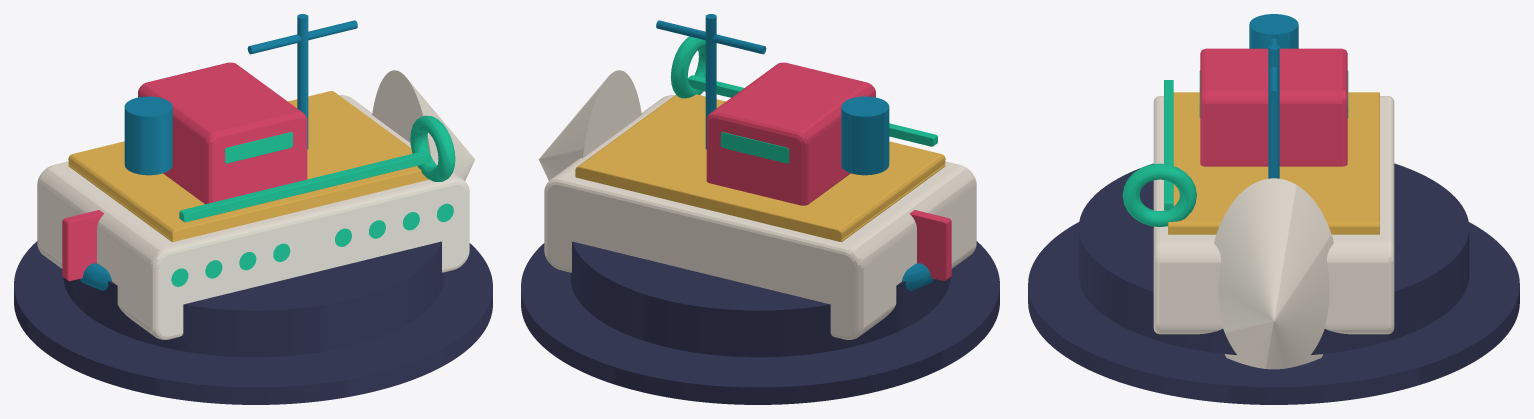
File: 0282_世界古代文明图鉴_腓尼基商船.glb
3 renders of one model, left to right at view 1: azimuth 30°, elevation 25°; view 2: azimuth 150°, elevation 25°; view 3: azimuth 270°, elevation 25°, orthographic.
Parts seen in each view (by area): view 1: card_0282; view 2: card_0282; view 3: card_0282.
Part boxes in pixels (left/top/right/bottom): card_0282: left=14, top=14, right=492, bottom=404; card_0282: left=521, top=14, right=999, bottom=404; card_0282: left=1028, top=14, right=1519, bottom=404.
Bounding box in the file's own units: 1.55 × 1 × 1.51.
